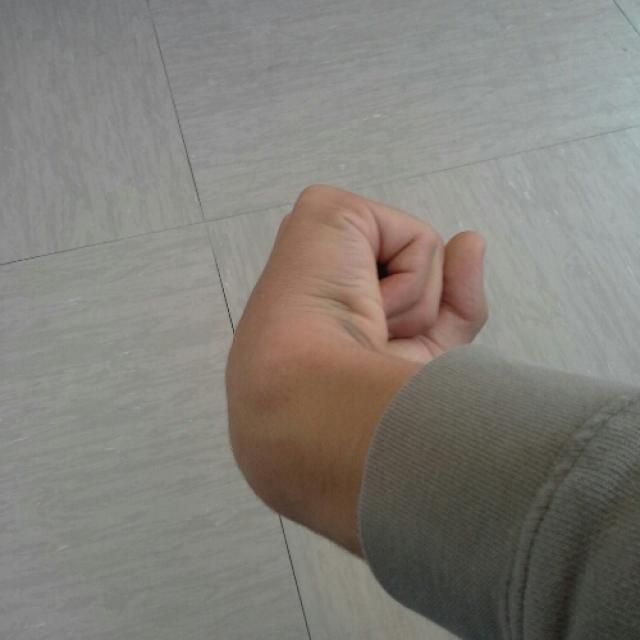rock: (226, 186, 494, 544)
